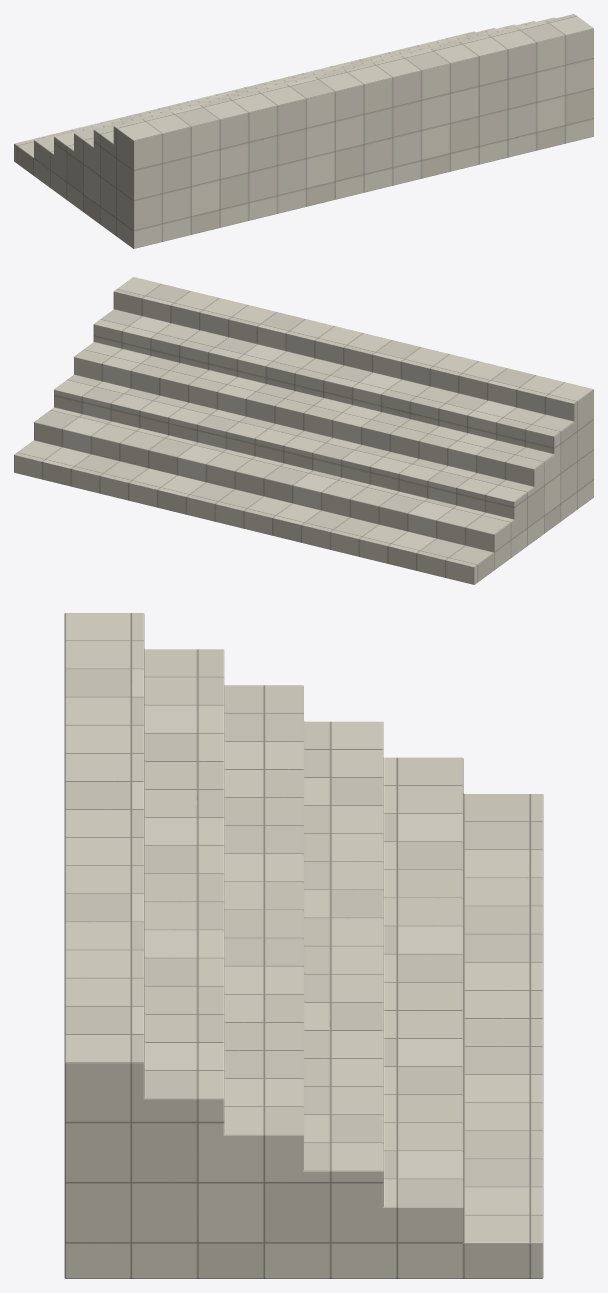
File: MOD_28_Stairs_SubmergedWide.glb
3 views of the same model, one above another, from view 1: azimuth 30°, elevation 25°; view 2: azimuth 150°, elevation 25°; view 3: azimuth 270°, elevation 25° (orthographic). The views are drawn at different scales.
Visible parts, largest first — view 1: MOD_28_Stairs_SubmergedWide_Export; view 2: MOD_28_Stairs_SubmergedWide_Export; view 3: MOD_28_Stairs_SubmergedWide_Export.
Boxes of the visible parts, x1,y1,x2,y2 form: MOD_28_Stairs_SubmergedWide_Export: [14, 14, 593, 248]; MOD_28_Stairs_SubmergedWide_Export: [14, 277, 593, 584]; MOD_28_Stairs_SubmergedWide_Export: [64, 613, 543, 1278].
Size of the model in its own units: 4 by 0.9 by 1.8.
Materials: 1 (1 with a texture image).
